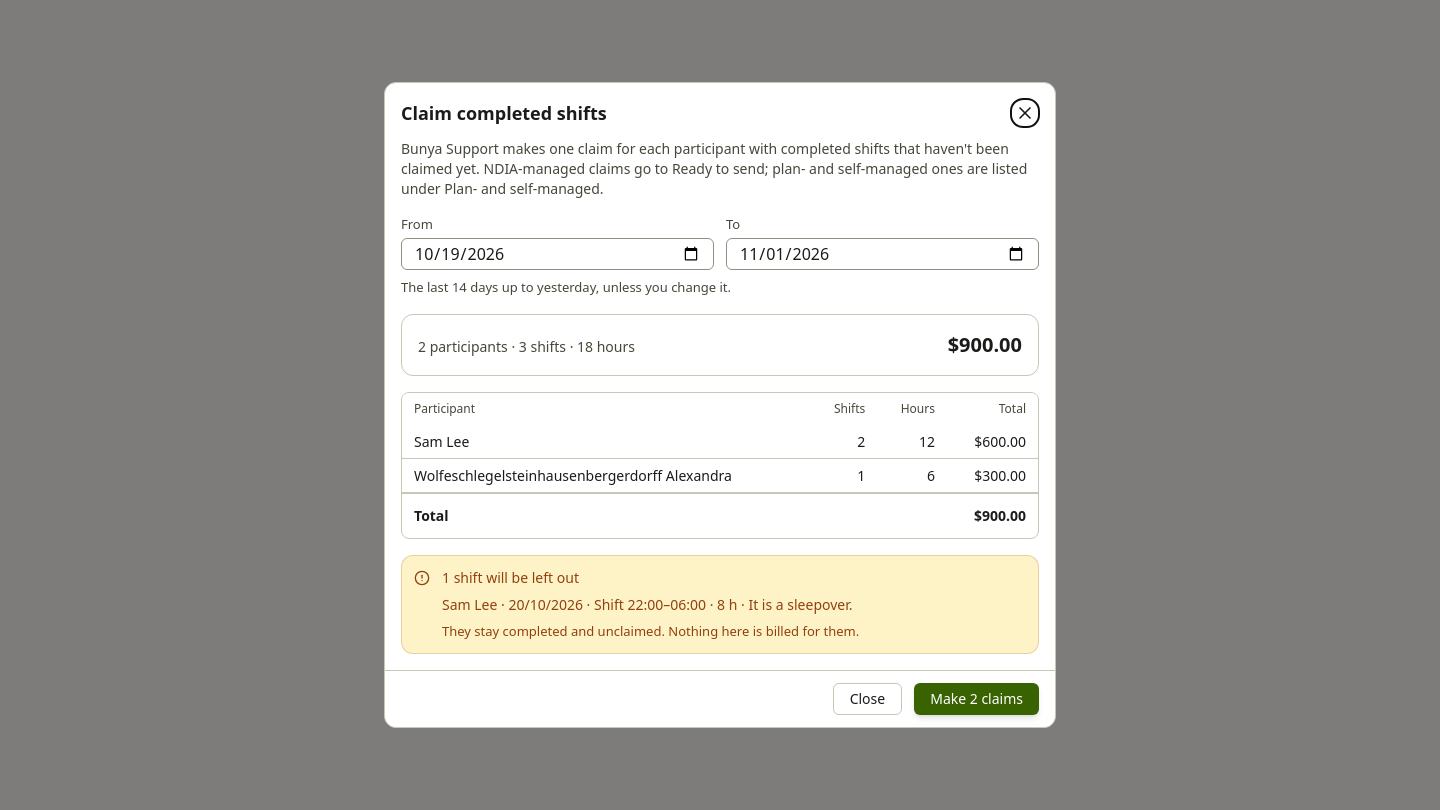
Scenario: ShiftClaimRunModal › says no claims were made when every participant failed, and leaves out the saved line
Click the button "Make 2 claims".
click(977, 699)  # box [914,683,1039,715]
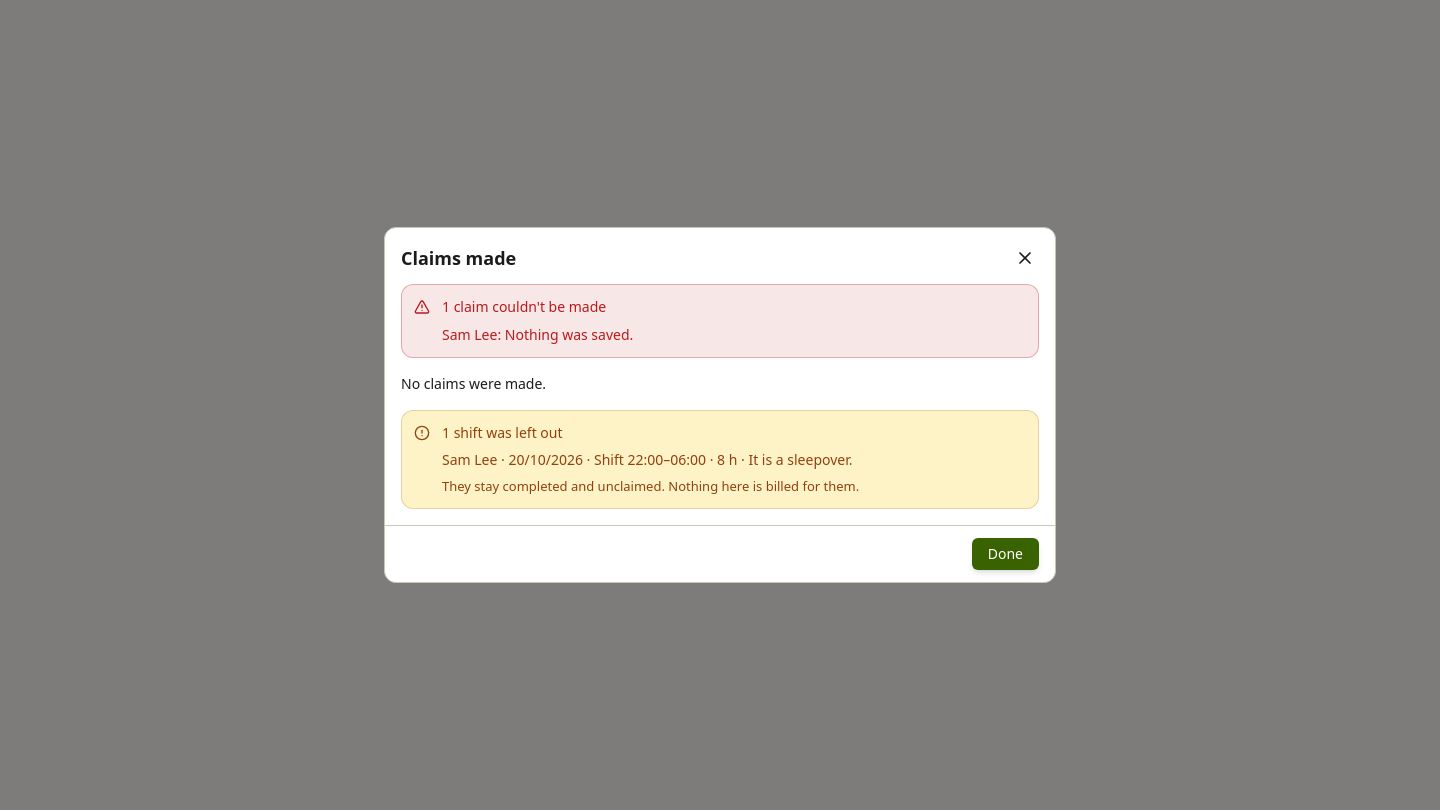
Result: the text "No claims were made." is shown at [401,374,546,393]
